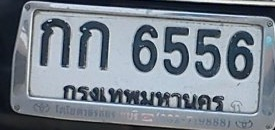txt01: (76, 18, 111, 73), (38, 16, 73, 70)
